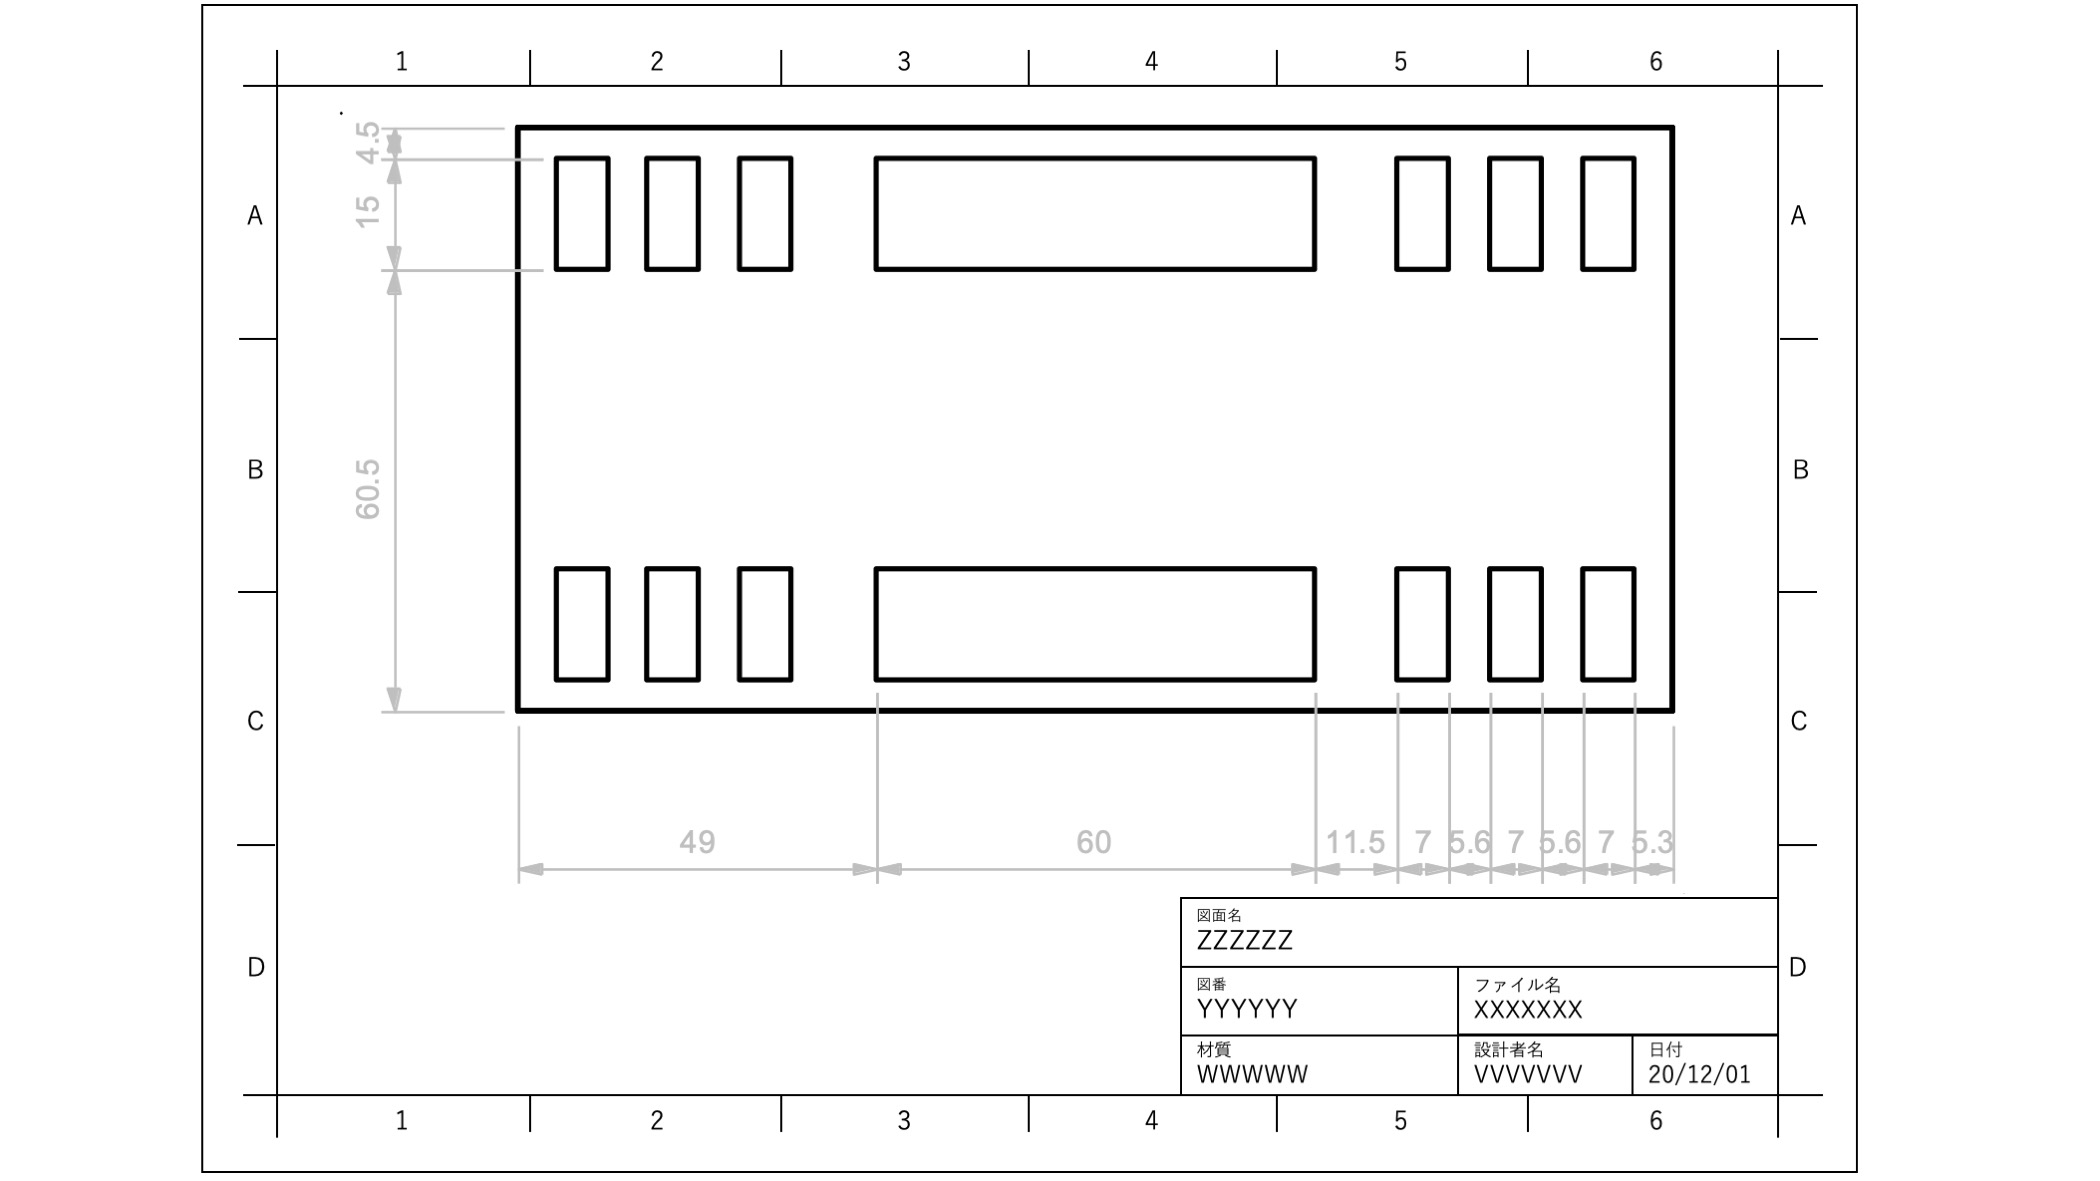rectangle: (862, 557, 1325, 695), (864, 146, 1325, 283), (730, 141, 800, 286), (1571, 149, 1646, 283), (542, 557, 613, 695), (728, 555, 799, 694), (633, 552, 702, 691), (542, 146, 612, 283), (1385, 146, 1455, 278), (1387, 555, 1455, 689), (1483, 558, 1548, 691), (1481, 144, 1545, 278), (640, 146, 704, 278), (1576, 557, 1640, 686)
